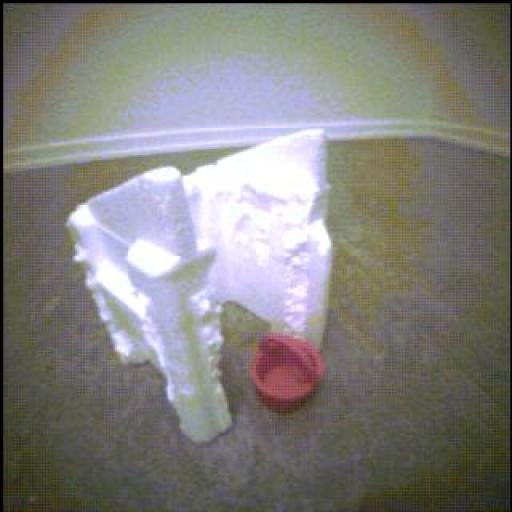Bucket: (251, 334, 326, 412)
